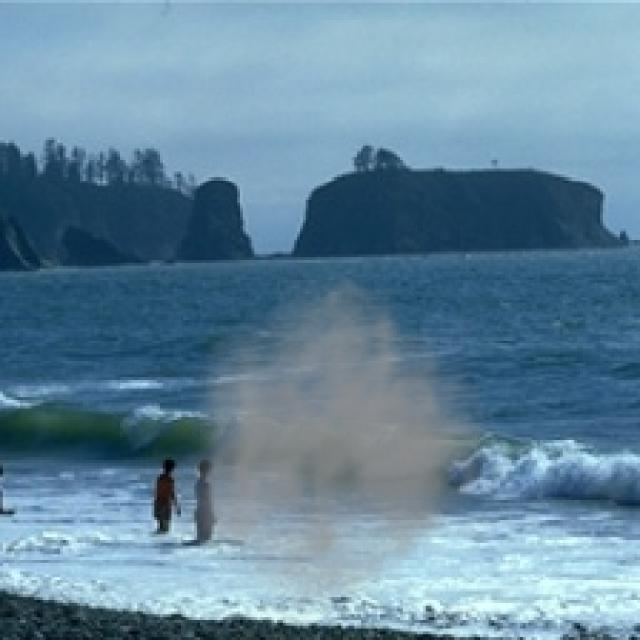smoke: (174, 260, 523, 634)
